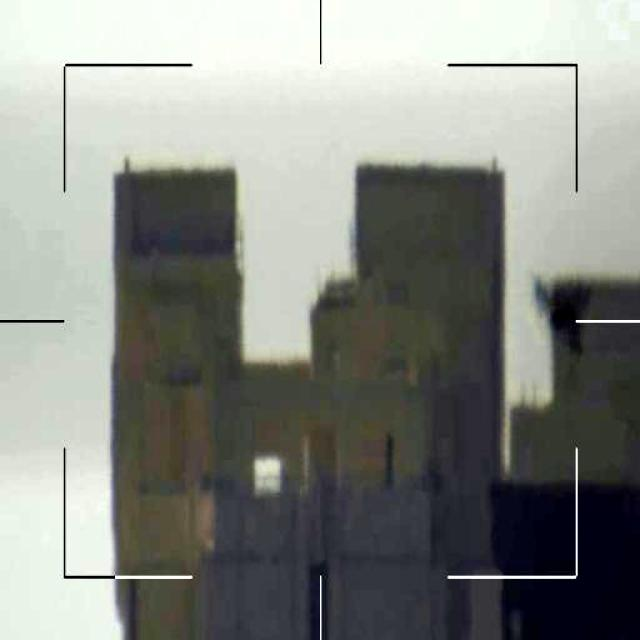bird: (534, 269, 595, 348)
